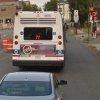Bus: (10, 5, 71, 69)
